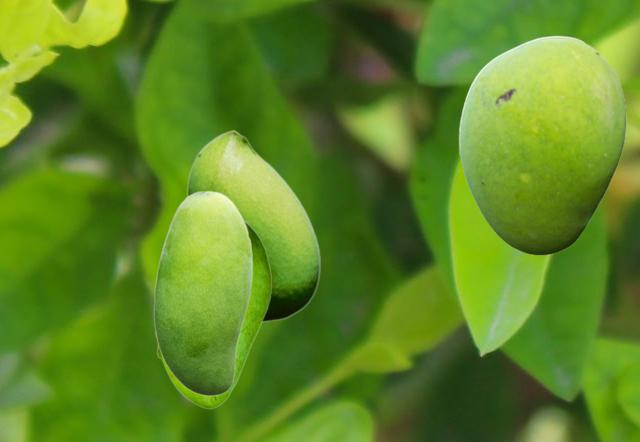green_mango: (458, 35, 625, 254), (186, 129, 319, 321), (155, 221, 271, 408), (153, 190, 252, 395)
